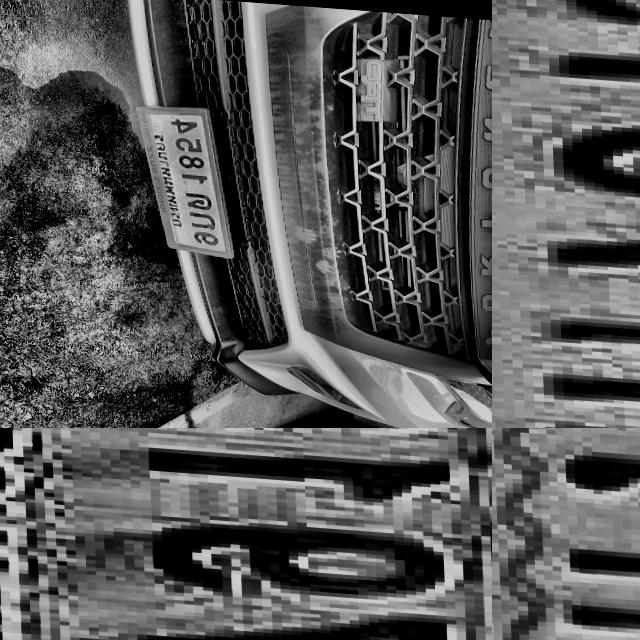license-plate: (0, 428, 492, 640), (492, 0, 640, 428), (492, 428, 640, 640), (131, 98, 234, 254)
